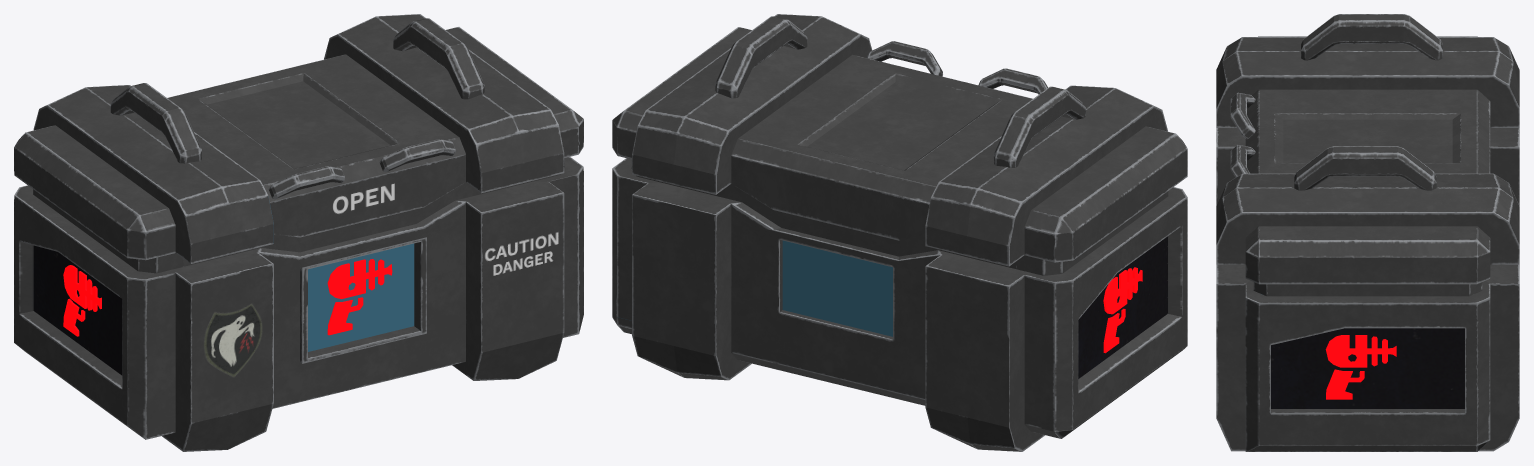
File: LaserGun.fbx
3 renders of one model, left to right at view 1: azimuth 30°, elevation 25°; view 2: azimuth 150°, elevation 25°; view 3: azimuth 270°, elevation 25°, orthographic. The views are drawn at different scales.
Parts seen in each view (by area): view 1: Box, LaserGun; view 2: Box, LaserGun; view 3: Box, LaserGun.
Boxes of the visible parts, x1,y1,x2,y2 form: Box: (14, 14, 583, 451); LaserGun: (63, 259, 392, 336); Box: (612, 14, 1187, 451); LaserGun: (1103, 267, 1142, 353); Box: (1216, 14, 1519, 451); LaserGun: (1325, 335, 1396, 399).
Bounding box in the file's own units: 334 × 207 × 199.
4 materials, 1 textured.
